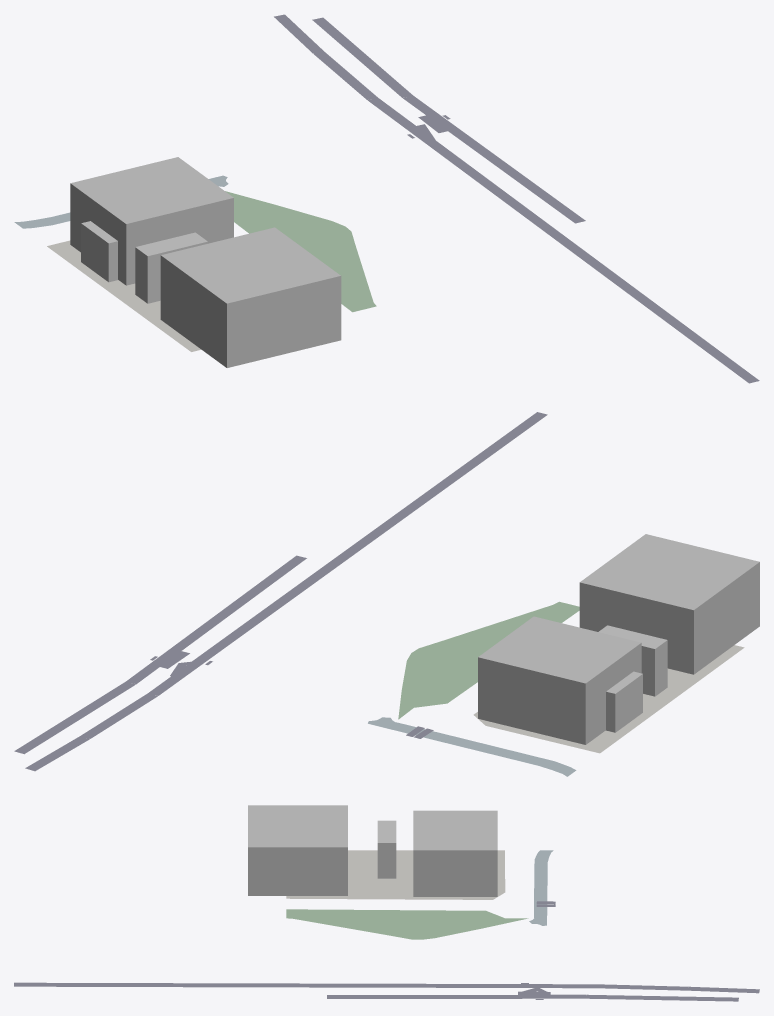
File: 127_76_mid.glb
3 renders of one model, top to bottom at view 1: azimuth 30°, elevation 25°; view 2: azimuth 150°, elevation 25°; view 3: azimuth 270°, elevation 25°, orthographic. The views are drawn at different scales.
Bounding box in the file's own units: 420 × 60.13 × 833.
